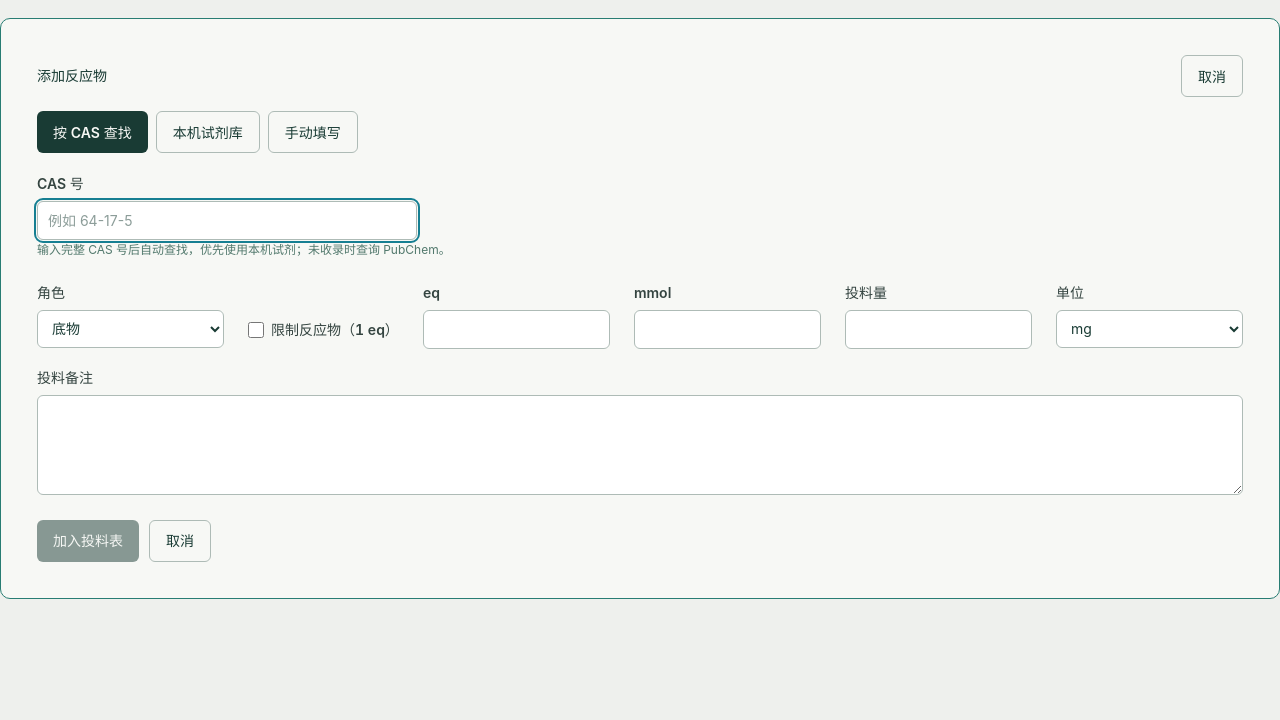
Test case: CAS reagent entry › requires a choice for ambiguous results and offers manual entry after failure
Type "64-17-5" into the field labelled "CAS 号" at [227, 220], box [37,201,417,240]
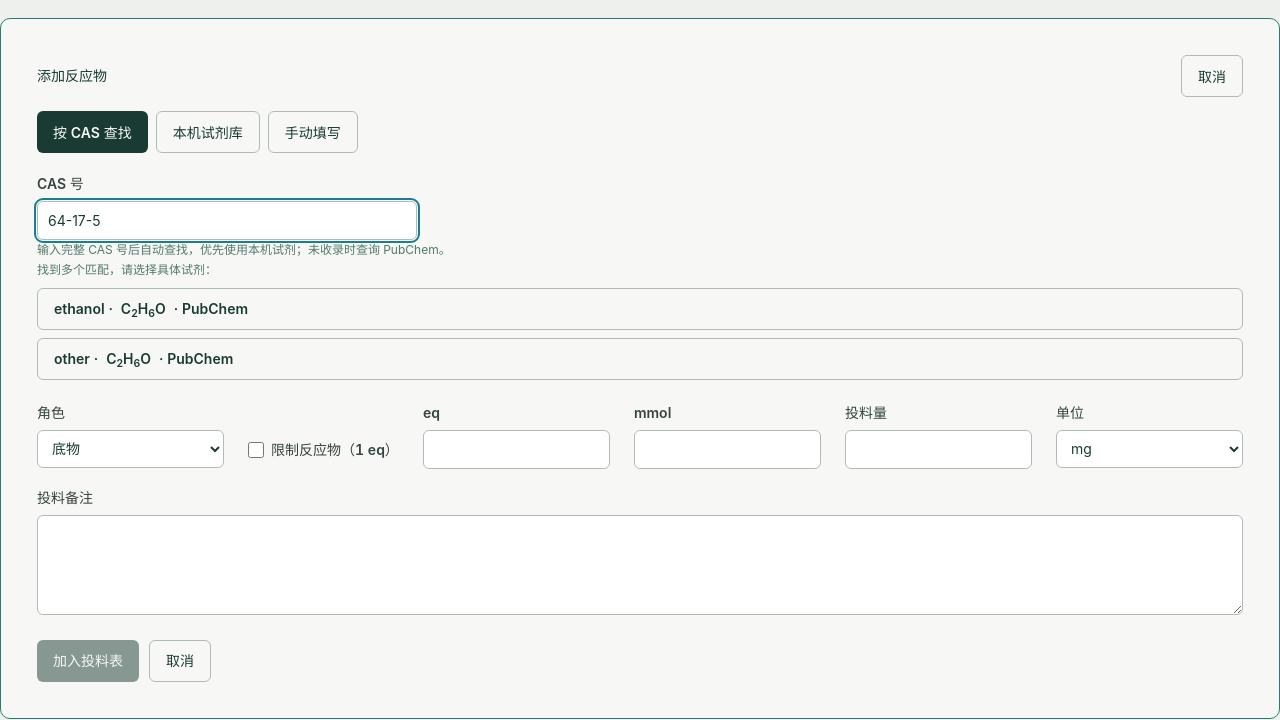
Check: the button "加入投料表" is disabled, box [37,640,139,682]
Check: the text "找到多个匹配，请选择具体试剂：" is shown, box [37,262,217,277]
Click the button "ethanol · C2H6O · PubChem" at [79, 309], box [37,288,1243,330]
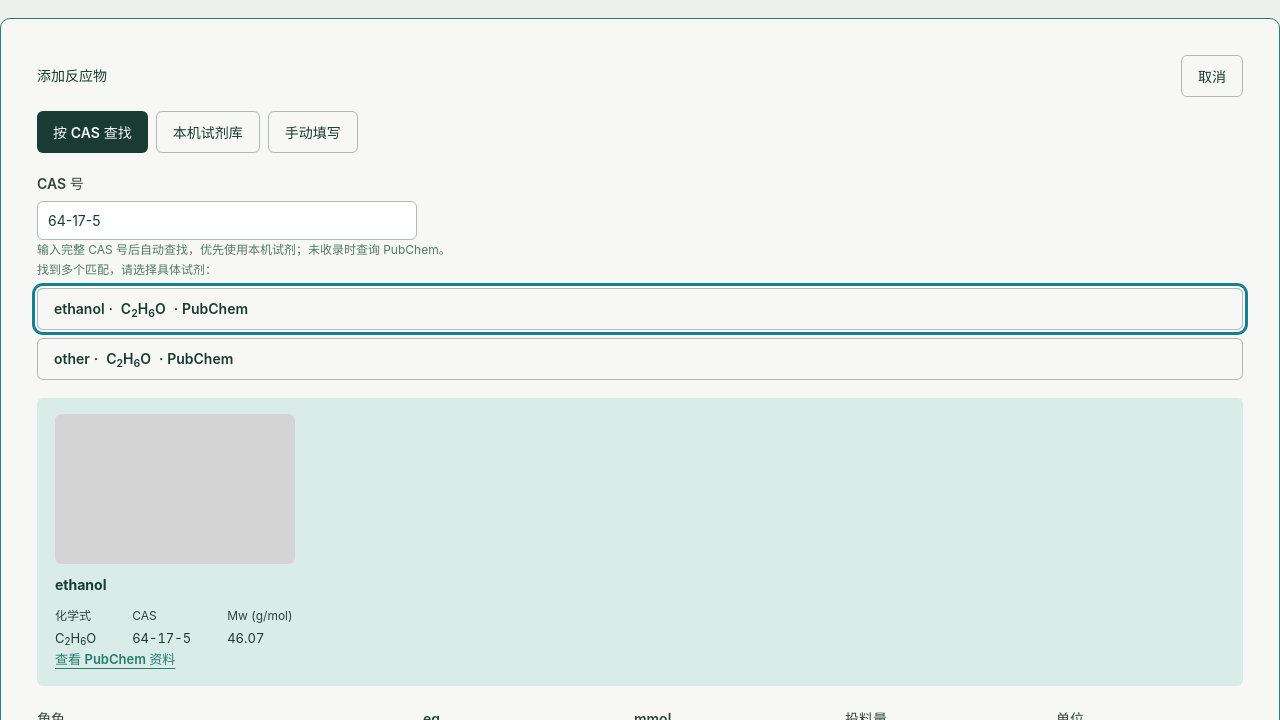
Click the button "手动填写" at [313, 132], box [268,111,358,153]
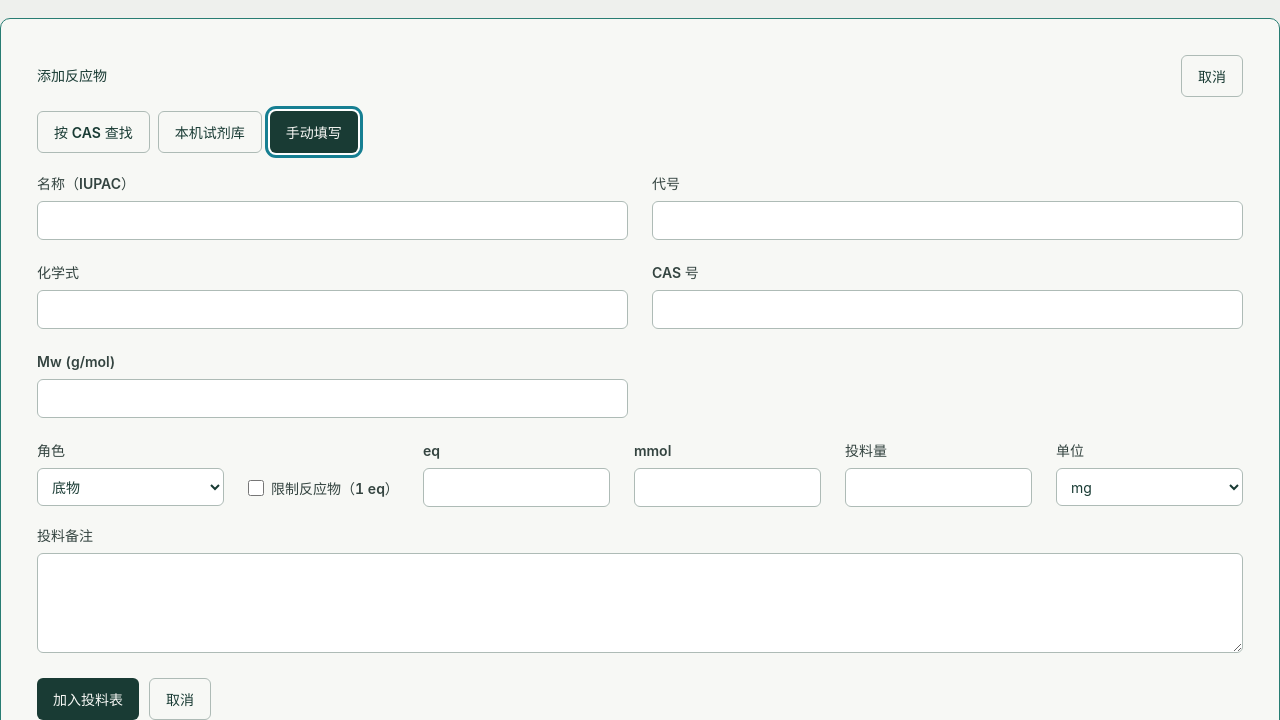
Check: the field labelled "名称（IUPAC）" is shown, box [37,201,628,240]
Check: the text "找到多个匹配，请选择具体试剂：" is gone
